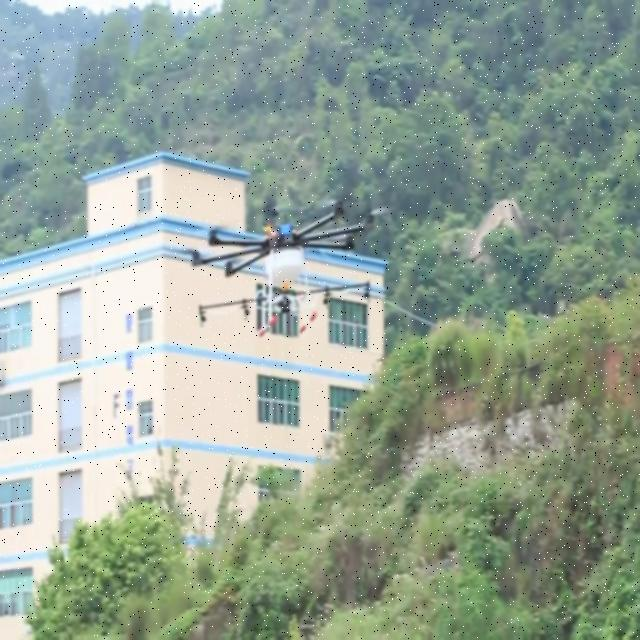UAV: (191, 202, 369, 338)
